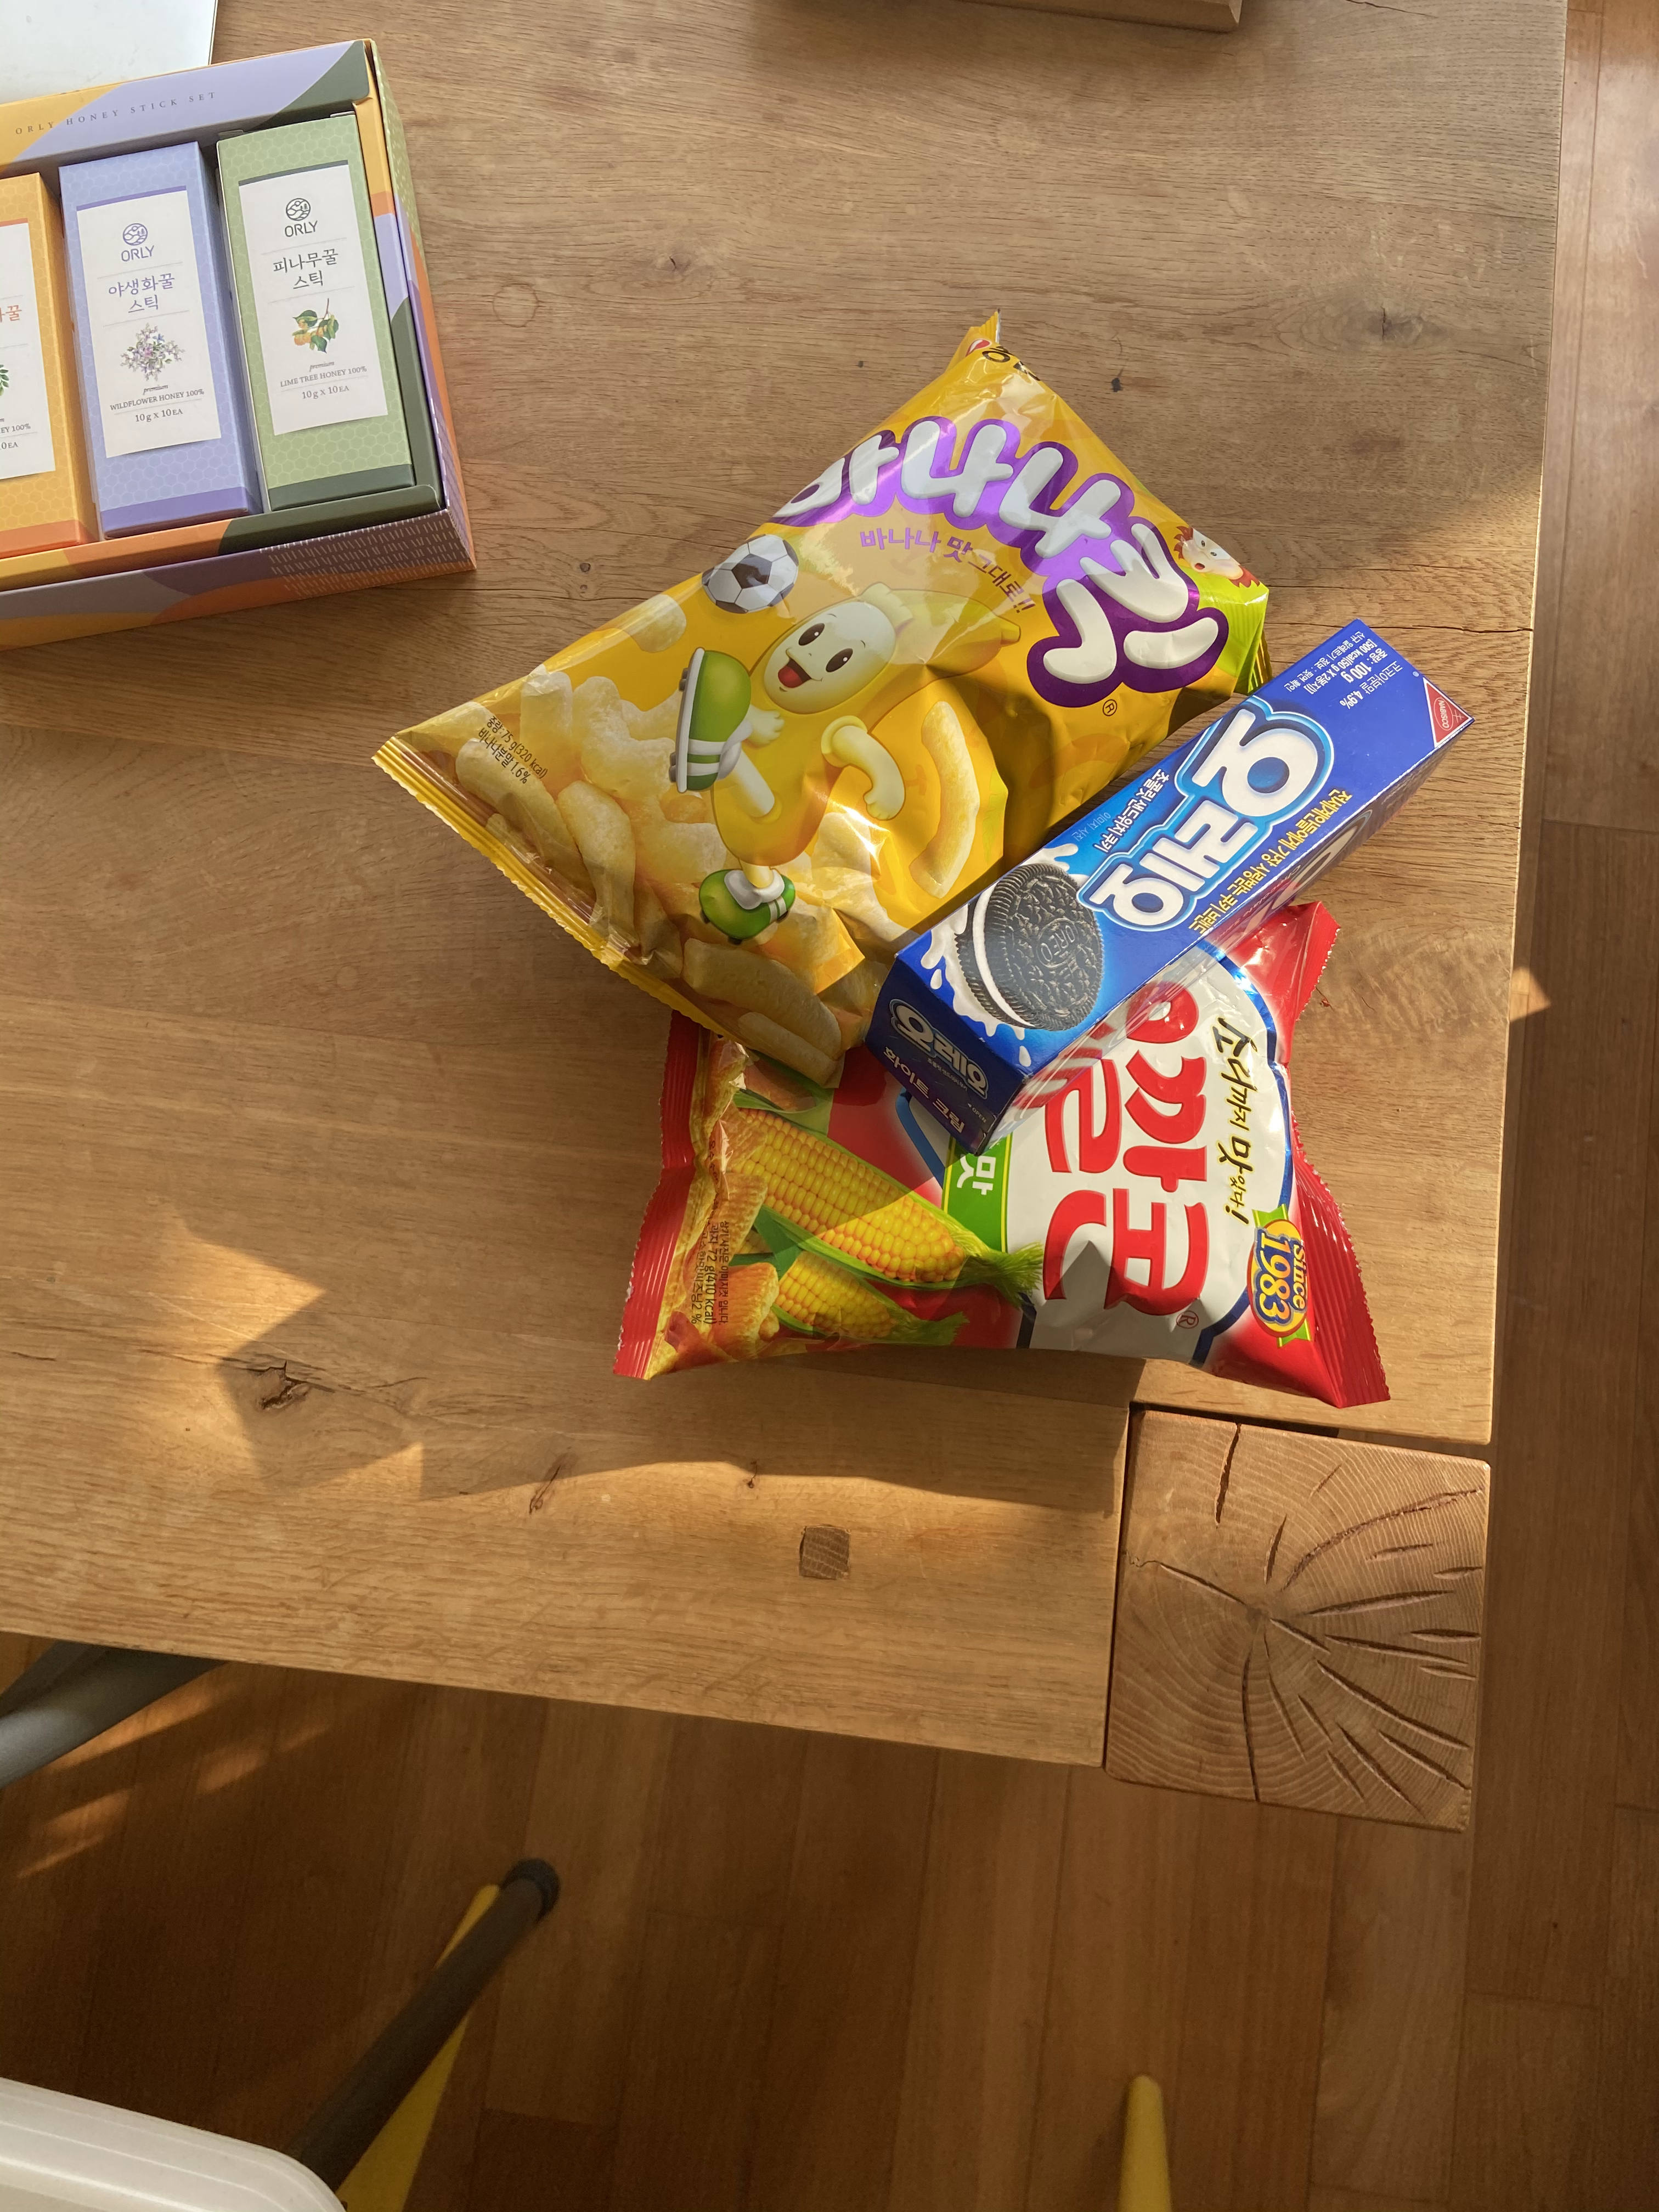banana: (340, 289, 1298, 1099)
ggoggalcon: (584, 892, 1399, 1432)
oreo: (838, 608, 1492, 1150)
